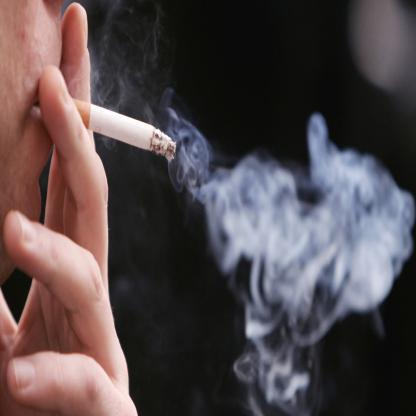cigarette: (65, 87, 179, 161)
smoke: (200, 138, 404, 318)
